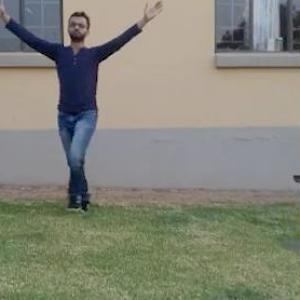takeoff: (0, 5, 152, 196)
